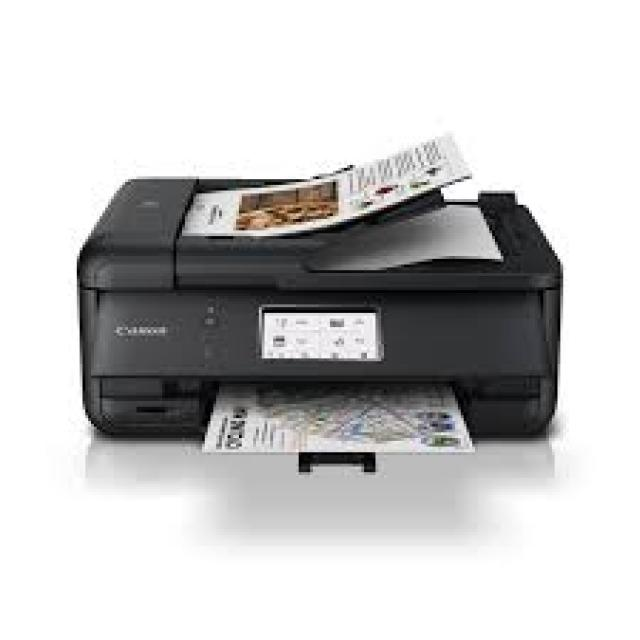printer: (74, 131, 563, 449)
